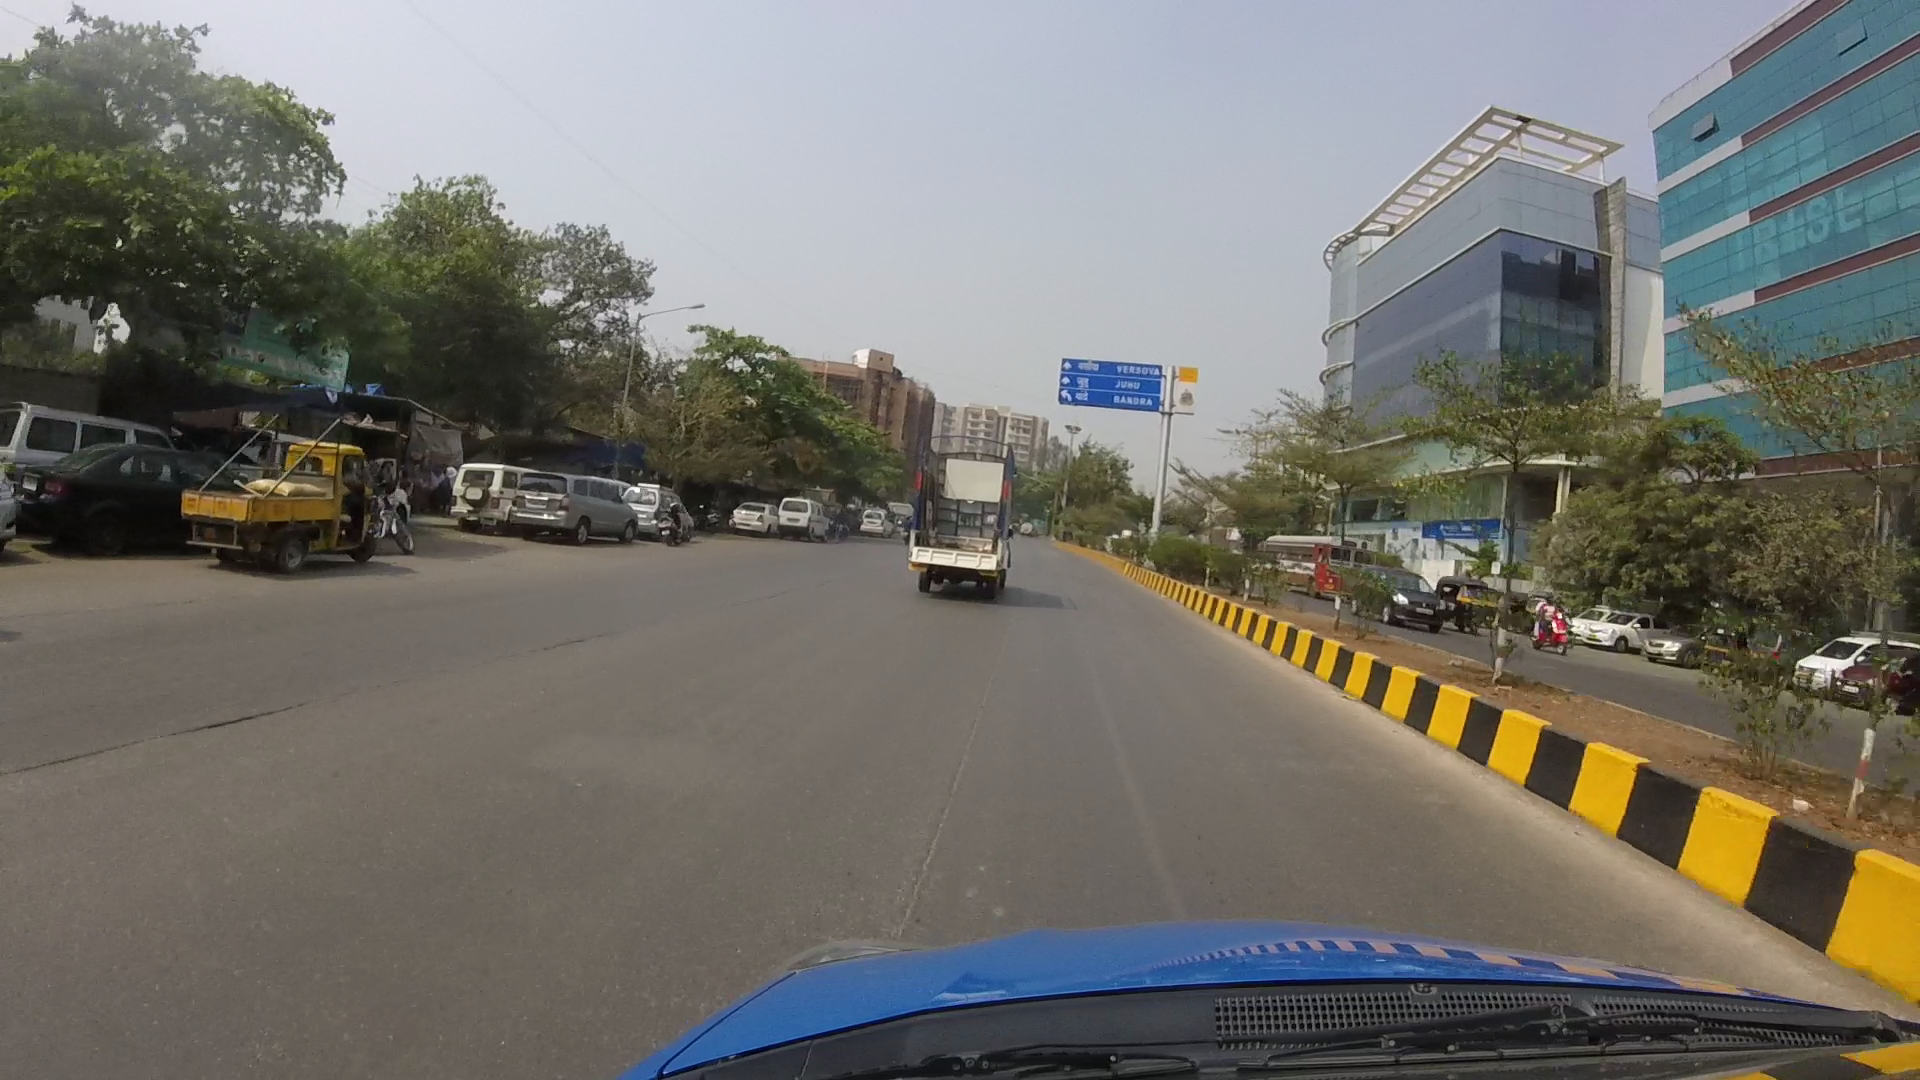car: (12, 434, 243, 555), (502, 463, 644, 549), (433, 447, 518, 538), (733, 487, 833, 539)
truck: (174, 409, 392, 574), (880, 452, 1033, 608)
